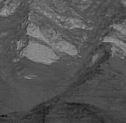Target: (72, 89, 80, 95)
